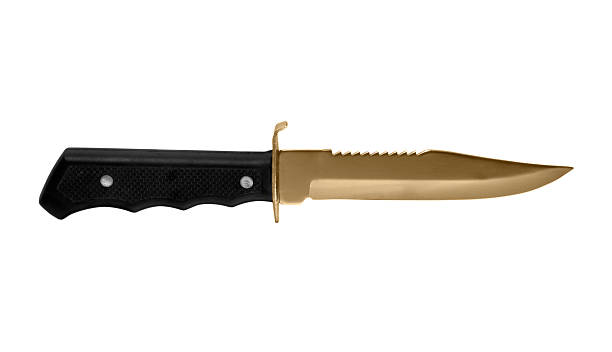knife: (40, 118, 573, 220)
